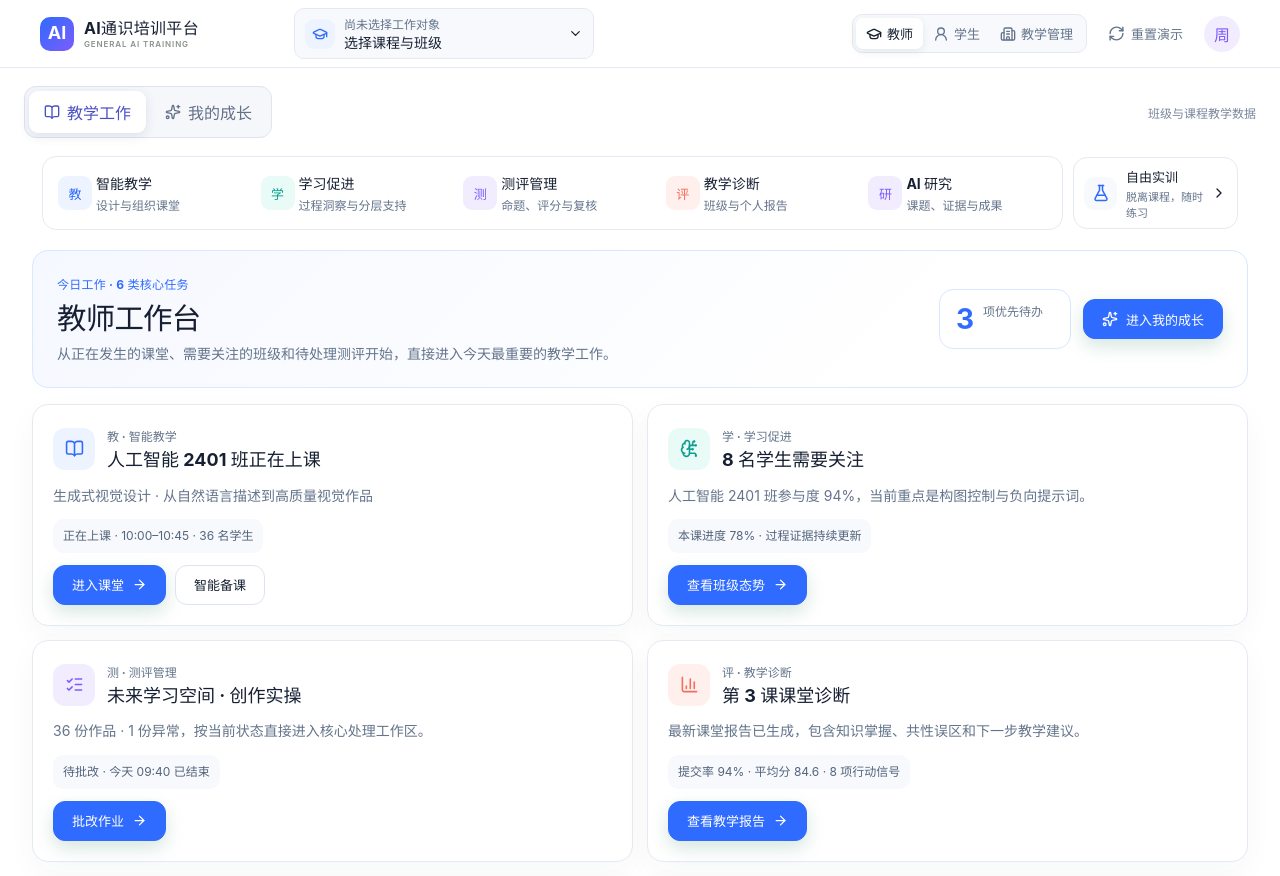
Test case: AI通识培训平台能力主线 › AI批改使用唯一功能标题，并在空状态与结果状态保持唯一导入主操作
Click the button "批改作业" at point(110, 821), box [53, 801, 166, 841]
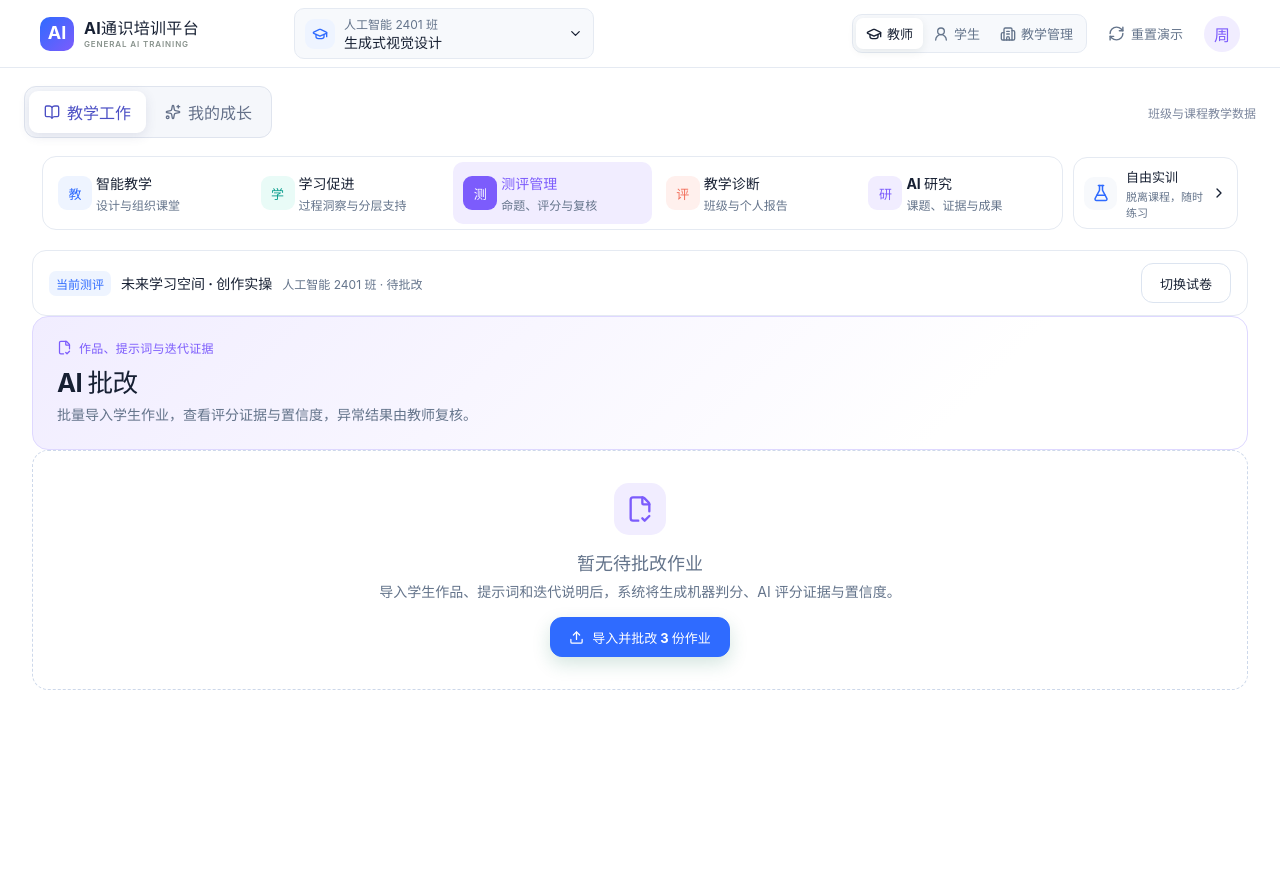
Expected: the heading "AI 批改" is shown, [57, 367, 137, 398]
Expected: the heading "暂无待批改作业" is shown, [577, 553, 703, 574]
Expected: the number of buttons "导入并批改 3 份作业" is 1
Click the button "导入并批改 3 份作业" at point(640, 637), box [550, 617, 730, 657]
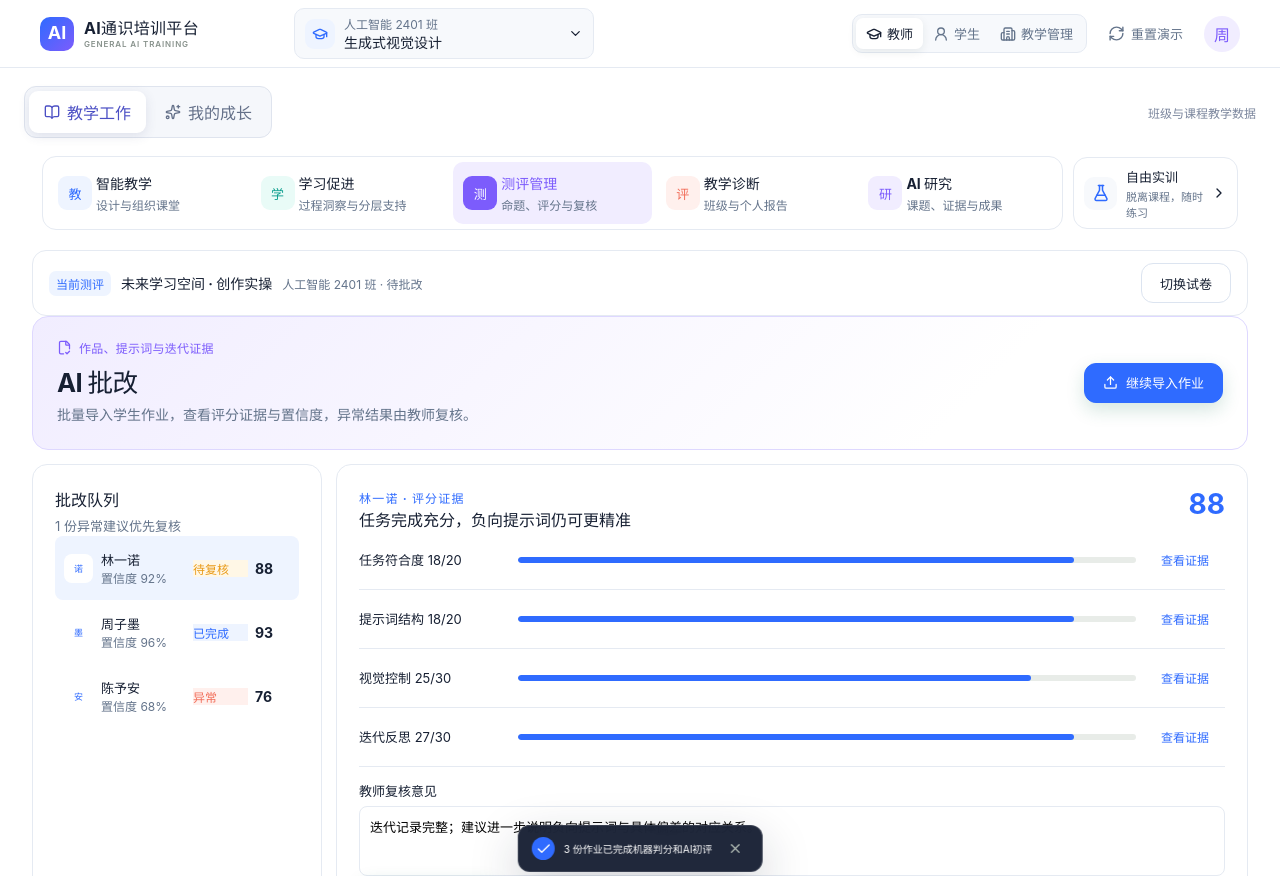
Expected: the button "继续导入作业" is shown, [1084, 363, 1223, 403]
Expected: the button "导入并批改 3 份作业" is gone
